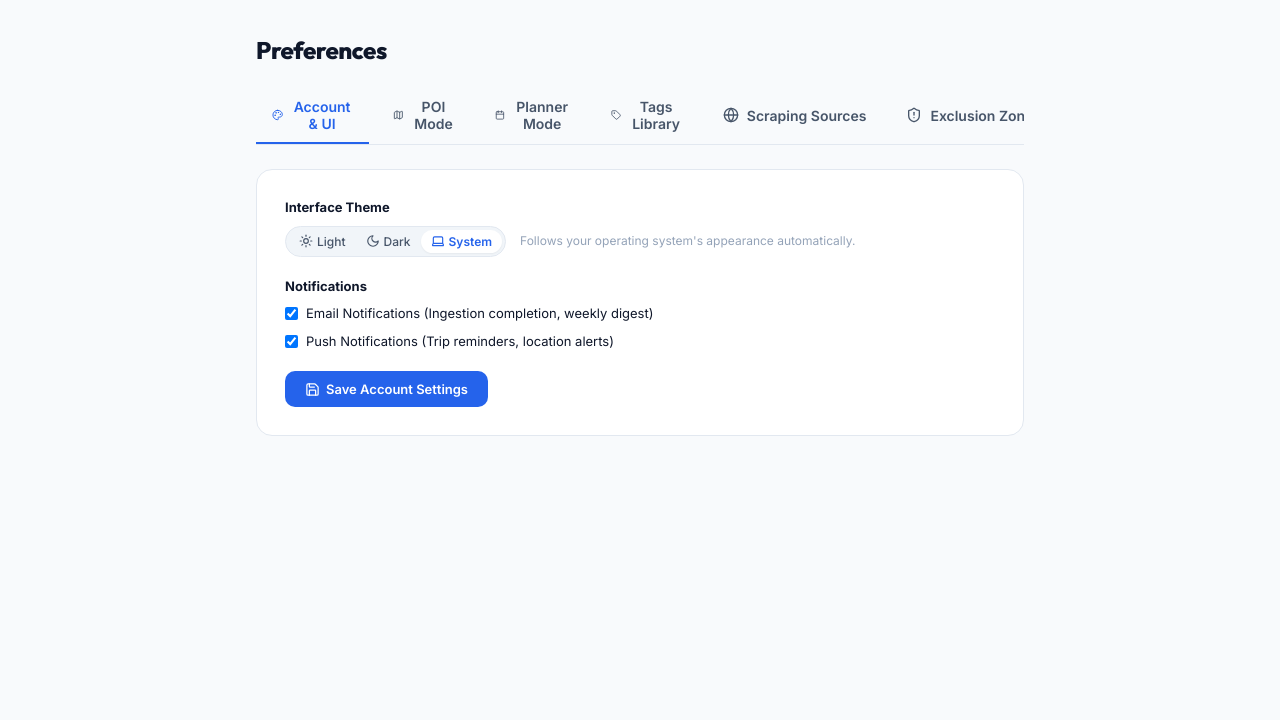
Test: Preferences & Settings Tabs (REQ-UI-016, REQ-UI-017) › renders tab navigation across Account/UI, POI, and Planner
Check: the text "Account & UI" is shown, box [291,98,353,132]
Check: the text "POI Mode" is shown, box [412,98,455,132]
// Switch to POI Tab
Click the button "POI Mode".
click(424, 116)  # box [377,88,471,144]
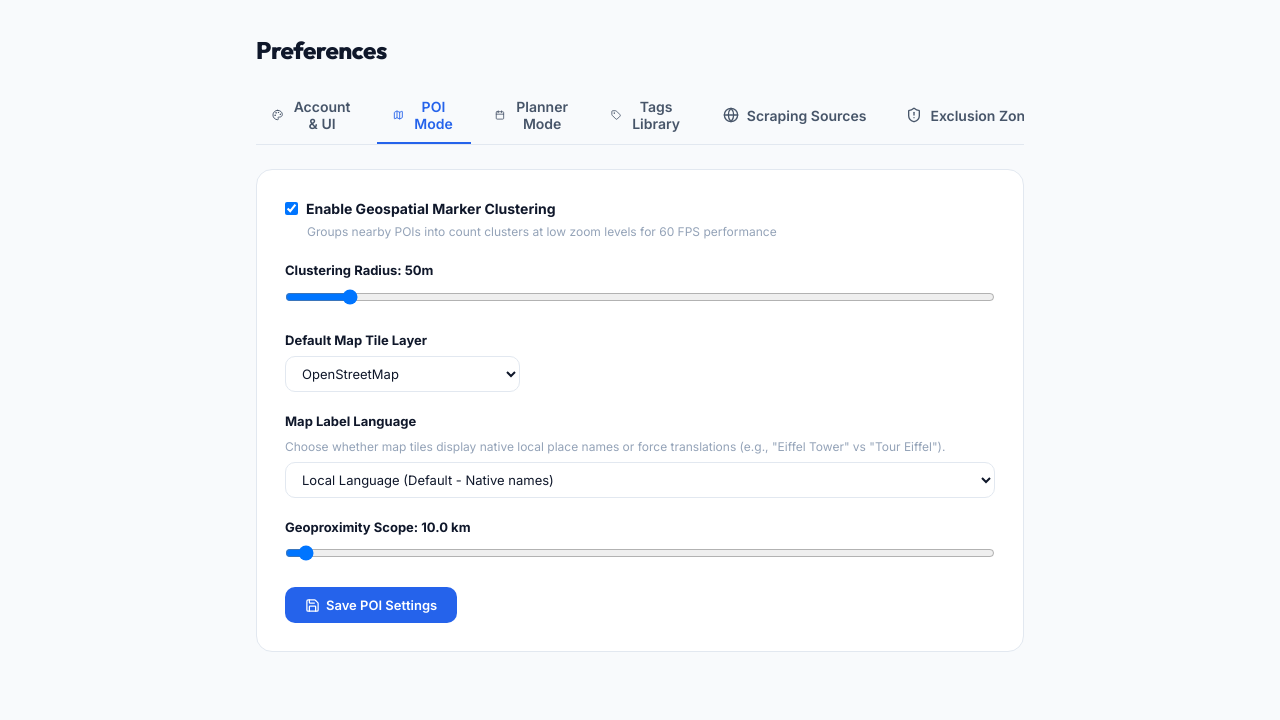
Check: the text "Clustering Radius: 50m" is shown, box [285,261,433,280]
Check: the text "Geoproximity Scope: 10.0 km" is shown, box [285,518,470,537]
// Switch to Planner Tab
Click the button "Planner Mode".
click(533, 116)  # box [479,88,587,144]
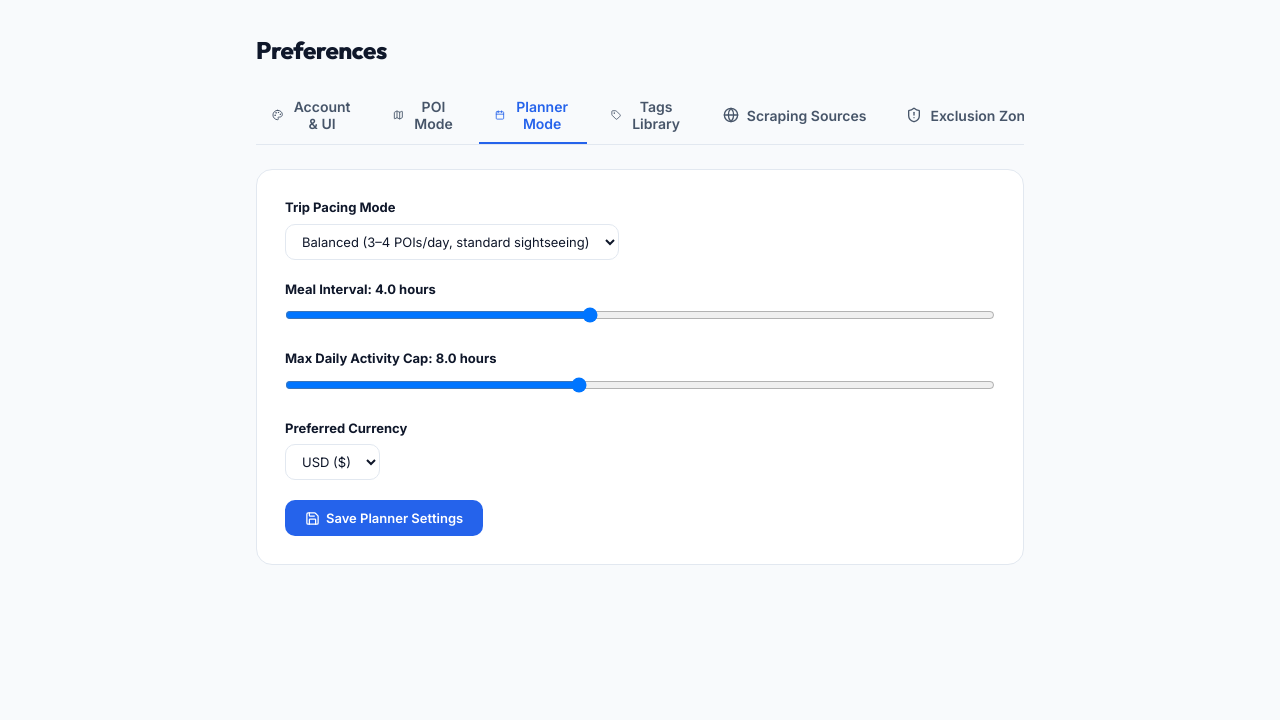
Check: the text "Trip Pacing Mode" is shown, box [285,199,396,215]
Check: the text "Meal Interval: 4.0 hours" is shown, box [285,280,436,299]
Check: the text "Preferred Currency" is shown, box [285,420,407,436]
// Switch to Exclusion Zones Tab
Click the button "Exclusion Zones".
click(974, 116)  # box [890,88,1057,144]
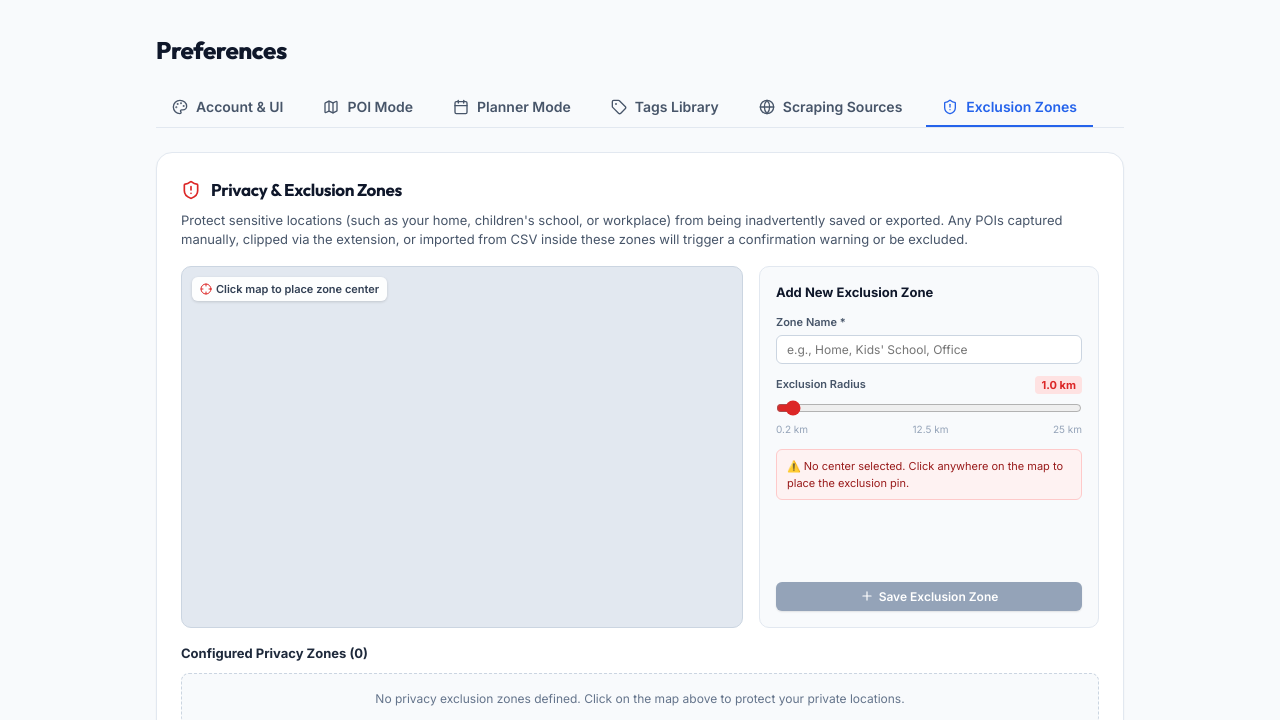
Check: the heading "Privacy & Exclusion Zones" is shown, box [211,177,402,202]
